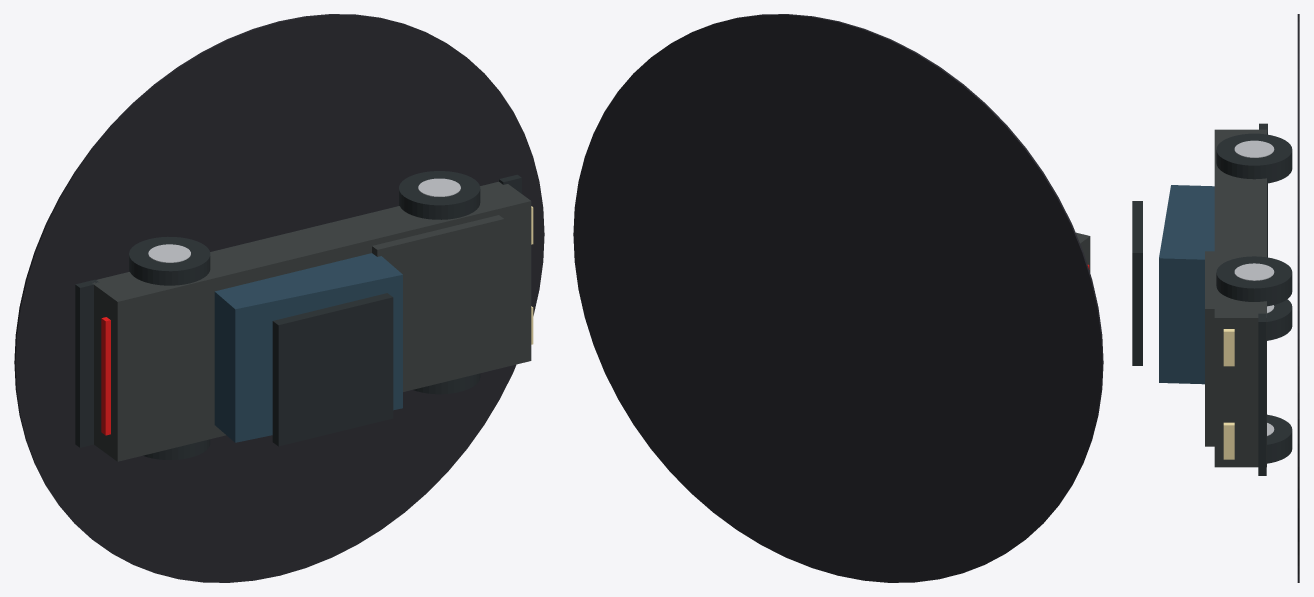
Rendered from range-rover-sport.glb.
The picture shows the model from 3 angles, left to right: view 1: azimuth 30°, elevation 25°; view 2: azimuth 150°, elevation 25°; view 3: azimuth 270°, elevation 25°; orthographic projection. The views are drawn at different scales.
Visible parts, largest first — view 1: world; view 2: world; view 3: world.
Part boxes in pixels (<box>): world: <box>14,14,544,582</box>; world: <box>573,14,1103,582</box>; world: <box>1132,14,1299,582</box>.
Bounding box in the file's own units: 6.3 × 6.3 × 1.85.
